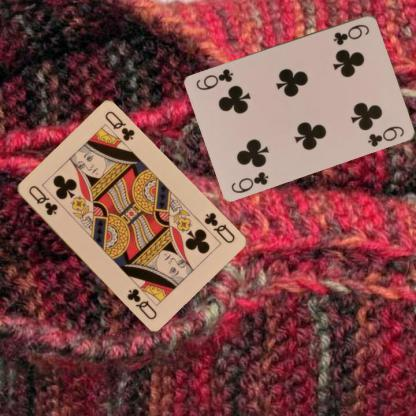6c: (229, 169, 270, 194), (330, 22, 371, 46)
Qc: (201, 210, 236, 244), (25, 182, 59, 216)
